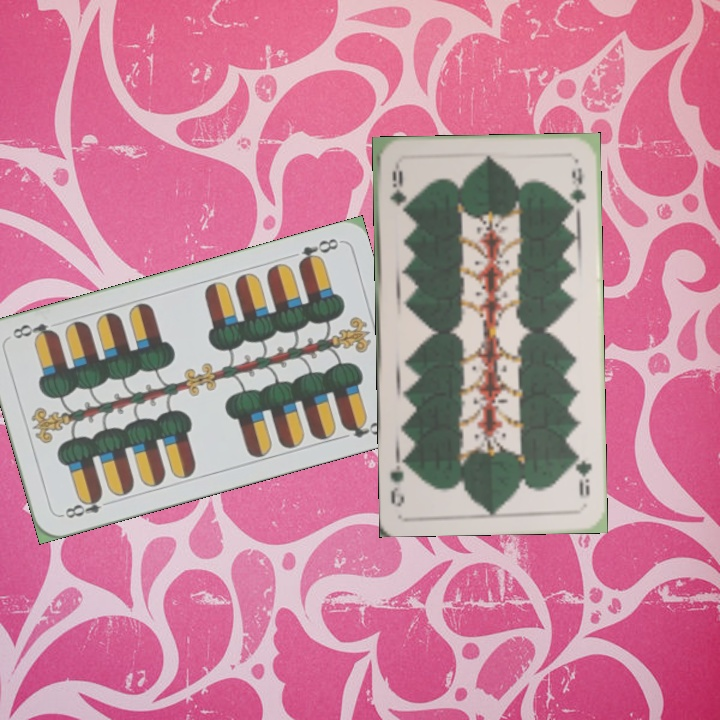E8: (57, 490, 115, 521), (294, 234, 341, 269)
G9: (571, 448, 594, 499), (386, 166, 407, 208)
